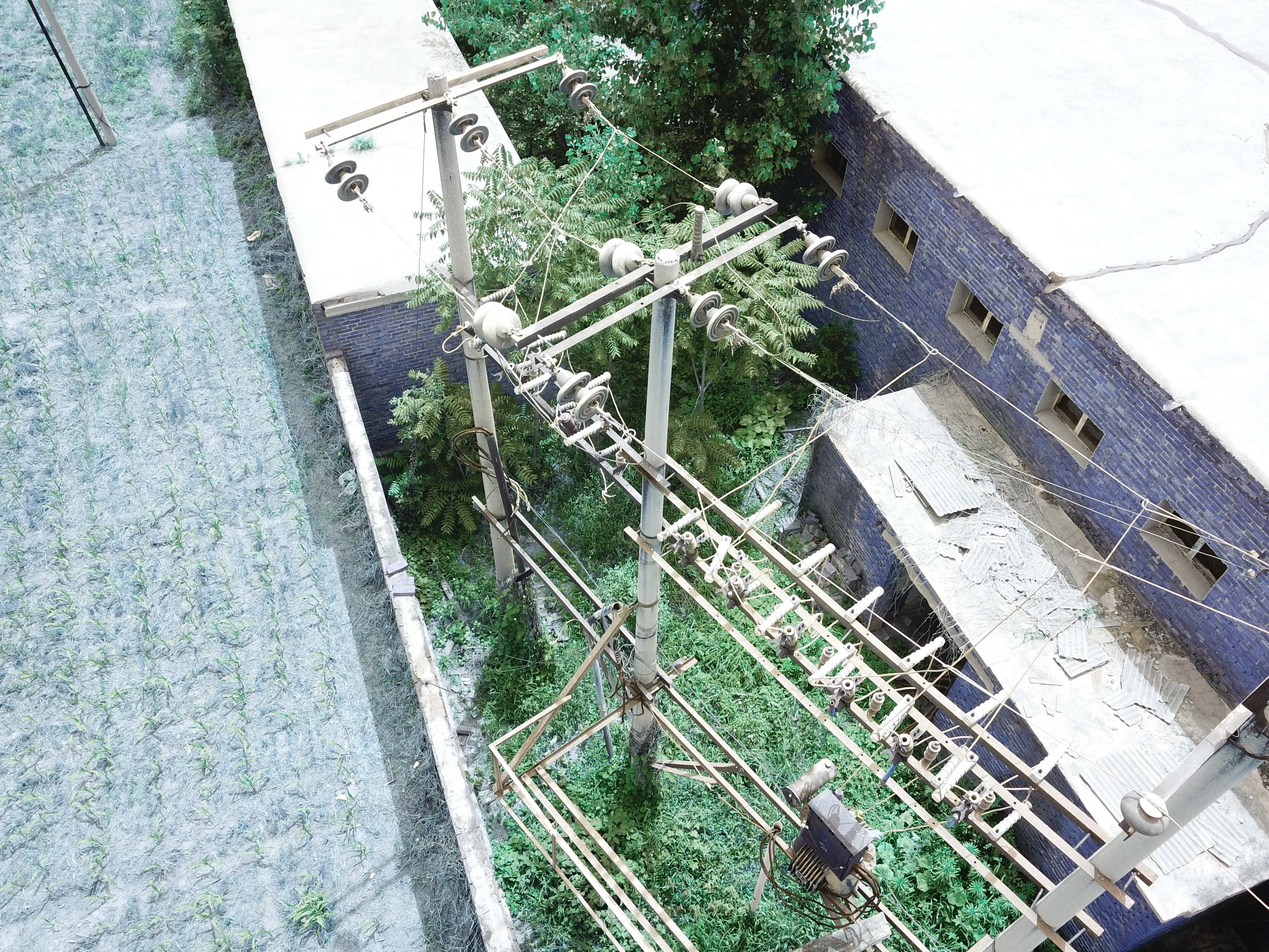severe_soiling_no_discharge_whole: (1118, 783, 1172, 839)
